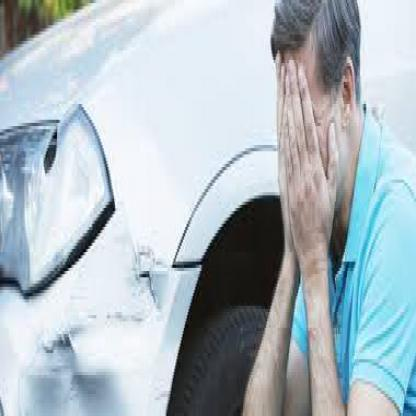dent: (34, 326, 118, 398), (134, 235, 165, 317)
